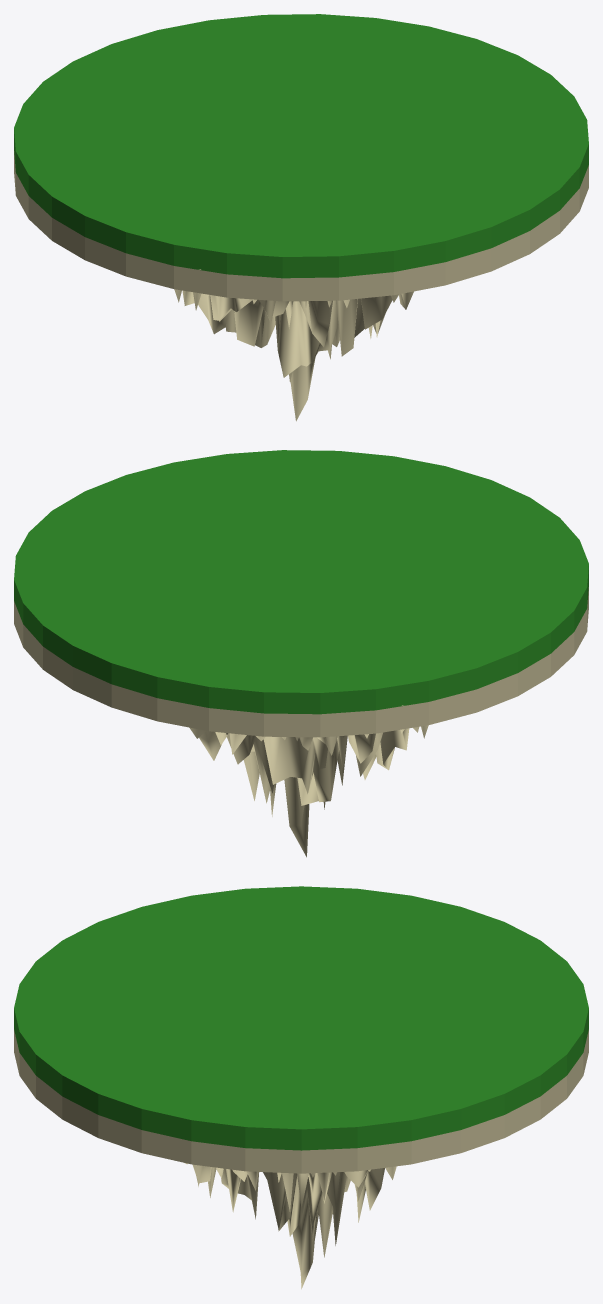
File: island_small.fbx
3 renders of one model, top to bottom at view 1: azimuth 30°, elevation 25°; view 2: azimuth 150°, elevation 25°; view 3: azimuth 270°, elevation 25°, orthographic.
Visible parts, largest first — view 1: Circle.001, Plane.003; view 2: Circle.001, Plane.003; view 3: Circle.001, Plane.003.
Part boxes in pixels (left/top/right/bottom): Circle.001: left=14, top=14, right=588, bottom=301; Plane.003: left=174, top=269, right=413, bottom=421; Circle.001: left=14, top=450, right=588, bottom=737; Plane.003: left=189, top=705, right=428, bottom=857; Circle.001: left=14, top=886, right=588, bottom=1173; Plane.003: left=185, top=1163, right=396, bottom=1289.
Size of the model in its own units: 199 by 109 by 199.
